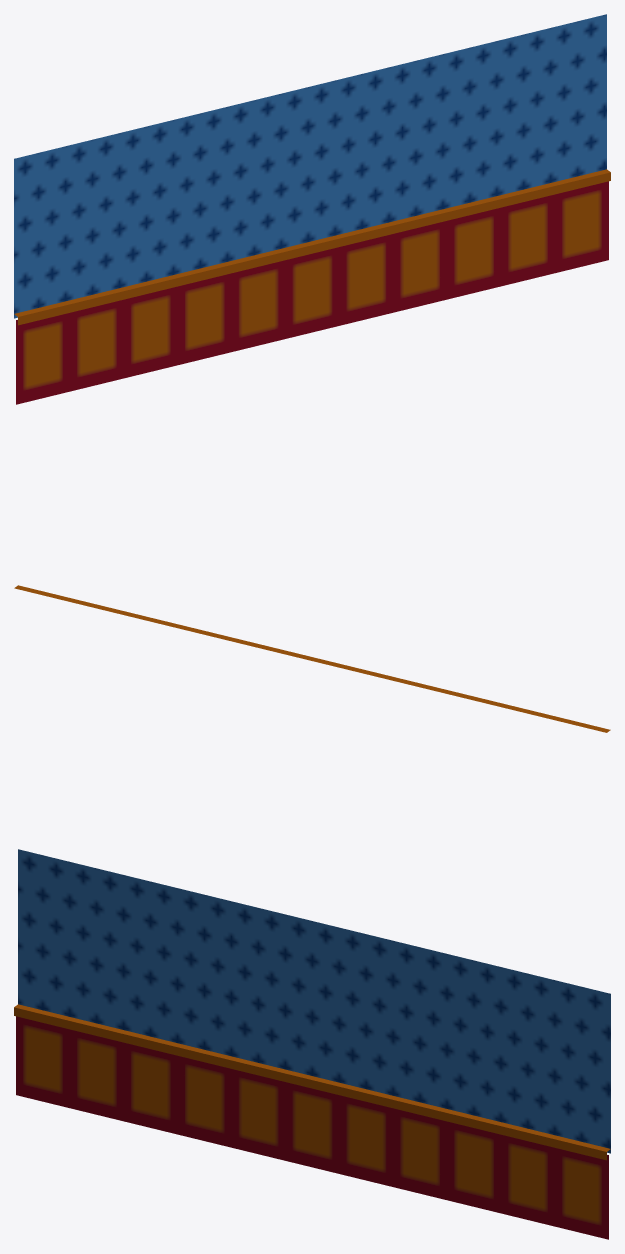
Rendered from wall.glb.
3 views of the same model, one above another, from view 1: azimuth 30°, elevation 25°; view 2: azimuth 150°, elevation 25°; view 3: azimuth 330°, elevation 25° (orthographic).
Parts seen in each view (by area): view 1: Paper; view 2: Paper; view 3: Paper.
Boxes of the visible parts, left/top/right/bottom form: Paper: left=14, top=14, right=610, bottom=404; Paper: left=14, top=585, right=610, bottom=732; Paper: left=14, top=849, right=610, bottom=1239.
Bounding box in the file's own units: 6.6 × 2.6 × 0.08.
Materials: 3 (2 with a texture image).
